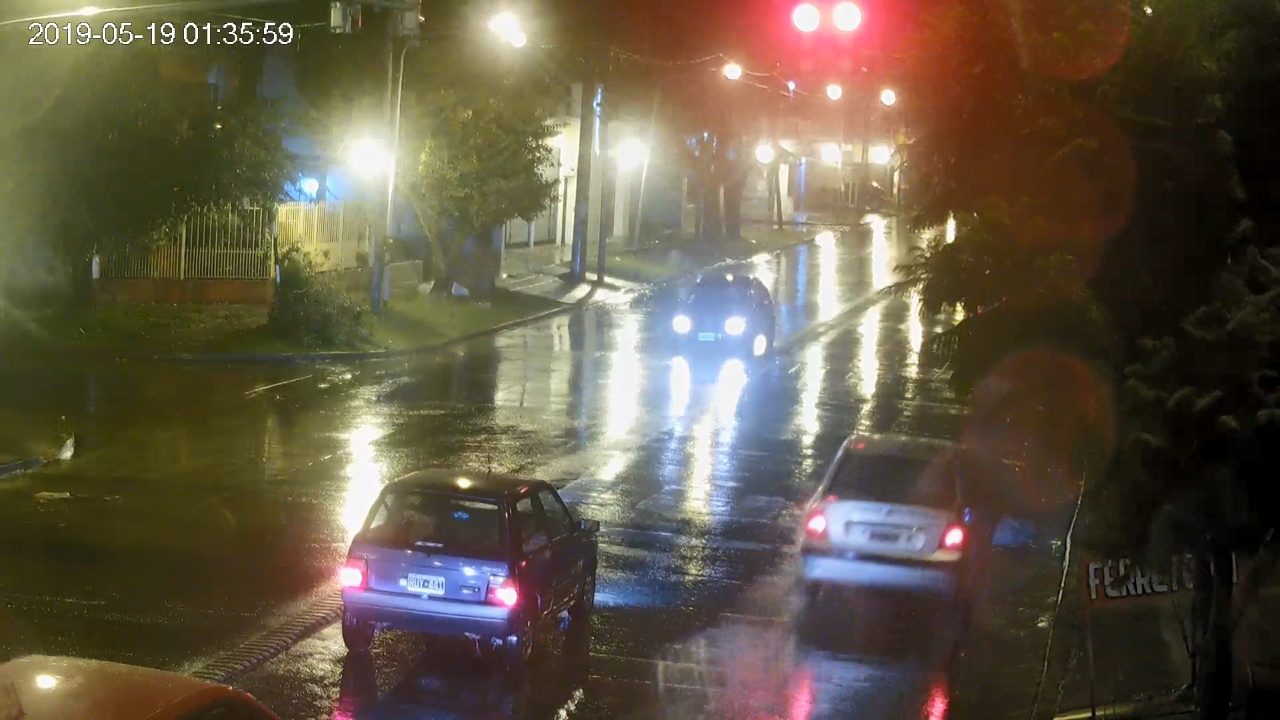car: (341, 469, 600, 662), (800, 433, 974, 608)
traffic light: (832, 5, 860, 75), (795, 3, 820, 73)
